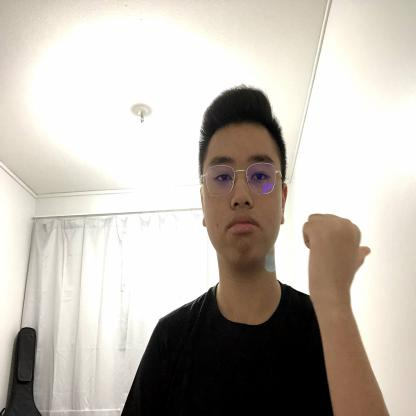left: (301, 208, 372, 306)
